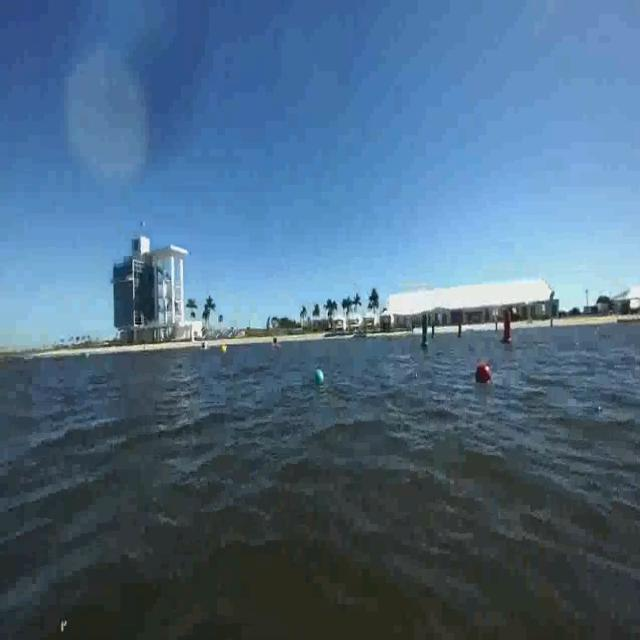green-buoy: (316, 371, 323, 383)
green-column-buoy: (419, 314, 430, 348)
red-buoy: (477, 363, 491, 383)
red-column-buoy: (502, 314, 512, 347)
yellow-buoy: (220, 344, 228, 354)
